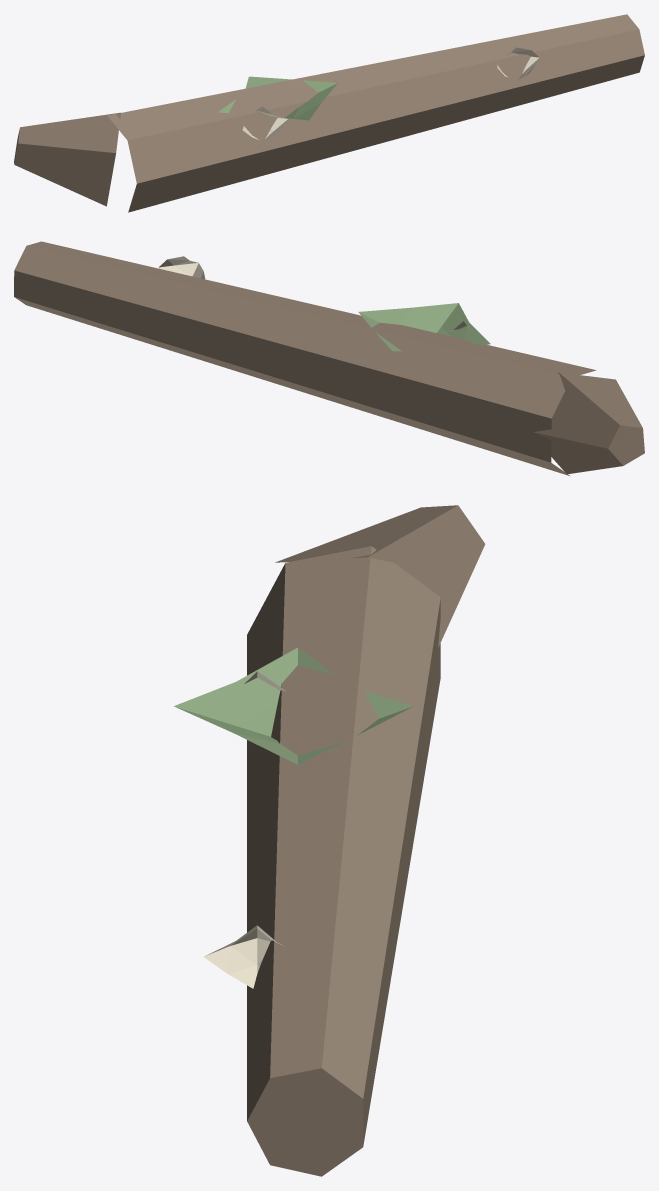
The model's file is log_v45.glb.
3 renders of one model, top to bottom at view 1: azimuth 30°, elevation 25°; view 2: azimuth 150°, elevation 25°; view 3: azimuth 270°, elevation 25°, orthographic. The views are drawn at different scales.
Parts seen in each view (by area): view 1: lod0; view 2: lod0; view 3: lod0.
Boxes of the visible parts, x1,y1,x2,y2 form: lod0: (14, 14, 644, 212); lod0: (14, 241, 644, 476); lod0: (174, 505, 485, 1176).
Size of what is drawn, in the model's own units: 3.2 by 0.5214 by 0.7345.
